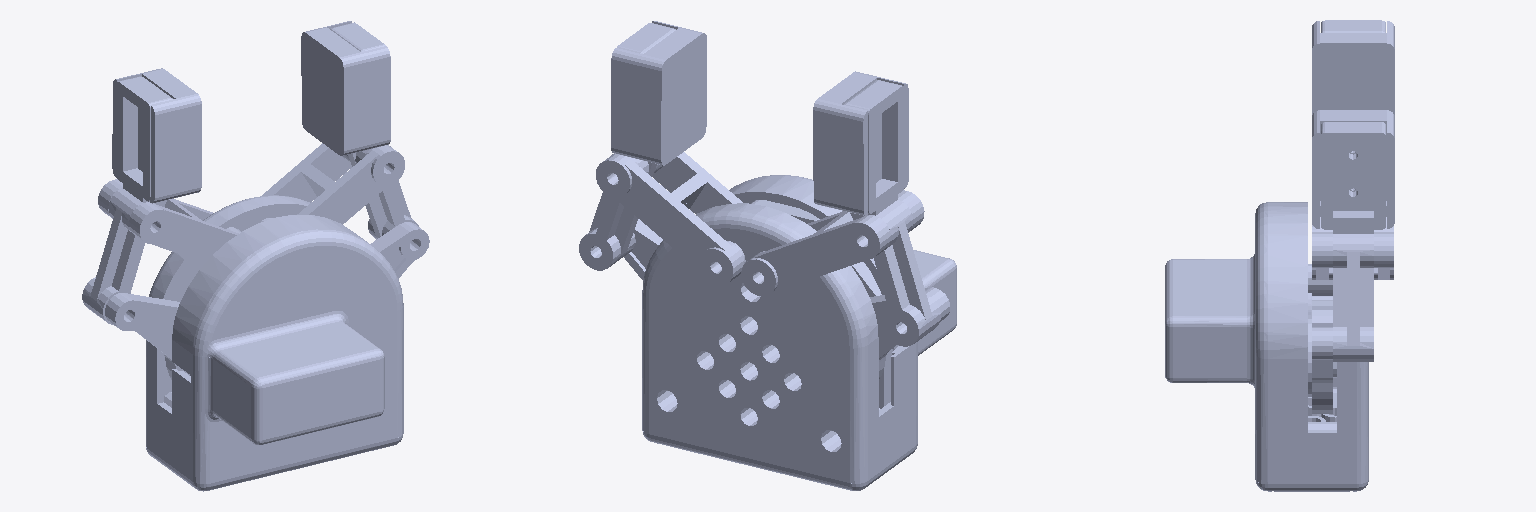
robot.urdf — mycobot_gripper_description:
<?xml version="1.0" encoding="utf-8"?>
<!-- This URDF was automatically created by SolidWorks to URDF Exporter! Originally created by [author] ([email redacted]) 
     Commit Version: 1.6.0-4-g7f85cfe  Build Version: 1.6.7995.38578
     For more information, please see http://wiki.ros.org/sw_urdf_exporter -->
<robot
  name="mycobot_gripper_description">
  <link
    name="base_link">
    <inertial>
      <origin
        xyz="0 -0.018162 0"
        rpy="1.5708 0 0" />
      <mass
        value="0.03237" />
      <inertia
        ixx="7.9803E-06"
        ixy="-3.7162E-08"
        ixz="4.3435E-07"
        iyy="1.0337E-05"
        iyz="3.3485E-07"
        izz="1.5321E-05" />
    </inertial>
    <visual>
      <origin
        xyz="0 0 0"
        rpy="0 0 0" />
      <geometry>
        <mesh
          filename="package://mycobot_gripper_description/meshes/base_link.STL" />
      </geometry>
      <material
        name="">
        <color
          rgba="0.79216 0.81961 0.93333 1" />
      </material>
    </visual>
    <collision>
      <origin
        xyz="0 0 0"
        rpy="0 0 0" />
      <geometry>
        <mesh
          filename="package://mycobot_gripper_description/meshes/base_link.STL" />
      </geometry>
    </collision>
  </link>
  <link
    name="left_inner_knuckle_link">
    <inertial>
      <origin
        xyz="-0.013688 0.0077832 0.01"
        rpy="0 0 0" />
      <mass
        value="0.0027253" />
      <inertia
        ixx="2.3883E-07"
        ixy="1.3724E-07"
        ixz="5.0465E-14"
        iyy="4.0216E-07"
        iyz="-1.3375E-14"
        izz="3.5516E-07" />
    </inertial>
    <visual>
      <origin
        xyz="0 0 0"
        rpy="0 0 0" />
      <geometry>
        <mesh
          filename="package://mycobot_gripper_description/meshes/left_inner_knuckle_link.STL" />
      </geometry>
      <material
        name="">
        <color
          rgba="0.79216 0.81961 0.93333 1" />
      </material>
    </visual>
    <collision>
      <origin
        xyz="0 0 0"
        rpy="0 0 0" />
      <geometry>
        <mesh
          filename="package://mycobot_gripper_description/meshes/left_inner_knuckle_link.STL" />
      </geometry>
    </collision>
  </link>
  <joint
    name="left_inner_base_knuckle_joint"
    type="continuous">
    <origin
      xyz="-0.006 0.0062 0.01931"
      rpy="1.5708 0 0" />
    <parent
      link="base_link" />
    <child
      link="left_inner_knuckle_link" />
    <axis
      xyz="0 0 1" />
    <mimic
      joint="left_outer_base_knuckle_joint"
      multiplier="1"
      offset="0" />
  </joint>
  <link
    name="left_finger_link">
    <inertial>
      <origin
        xyz="-0.011258 -0.00023581 0.005"
        rpy="0 0 0" />
      <mass
        value="0.0069464" />
      <inertia
        ixx="3.0023E-07"
        ixy="1.5317E-07"
        ixz="2.0426E-16"
        iyy="1.5826E-06"
        iyz="-6.683E-17"
        izz="1.4568E-06" />
    </inertial>
    <visual>
      <origin
        xyz="0 0 0"
        rpy="0 0 0" />
      <geometry>
        <mesh
          filename="package://mycobot_gripper_description/meshes/left_finger_link.STL" />
      </geometry>
      <material
        name="">
        <color
          rgba="0.79216 0.81961 0.93333 1" />
      </material>
    </visual>
    <collision>
      <origin
        xyz="0 0 0"
        rpy="0 0 0" />
      <geometry>
        <mesh
          filename="package://mycobot_gripper_description/meshes/left_finger_link.STL" />
      </geometry>
    </collision>
  </link>
  <joint
    name="left_inner_knuckle_finger_joint"
    type="continuous">
    <origin
      xyz="-0.026961 0.01533 0.015"
      rpy="3.1416 0 -1.8908" />
    <parent
      link="left_inner_knuckle_link" />
    <child
      link="left_finger_link" />
    <axis
      xyz="0 0 -1" />
    <mimic
      joint="left_outer_base_knuckle_joint"
      multiplier="-1"
      offset="0" />
  </joint>
  <link
    name="left_outer_knuckle_link">
    <inertial>
      <origin
        xyz="0.0024724 0.0012069 -0.0061758"
        rpy="0 0 0" />
      <mass
        value="0.0031761" />
      <inertia
        ixx="5.5821E-07"
        ixy="-8.1055E-11"
        ixz="4.4412E-10"
        iyy="4.2052E-07"
        iyz="7.9939E-08"
        izz="1.5004E-07" />
    </inertial>
    <visual>
      <origin
        xyz="0 0 0"
        rpy="0 0 0" />
      <geometry>
        <mesh
          filename="package://mycobot_gripper_description/meshes/left_outer_knuckle_link.STL" />
      </geometry>
      <material
        name="">
        <color
          rgba="0.79216 0.81961 0.93333 1" />
      </material>
    </visual>
    <collision>
      <origin
        xyz="0 0 0"
        rpy="0 0 0" />
      <geometry>
        <mesh
          filename="package://mycobot_gripper_description/meshes/left_outer_knuckle_link.STL" />
      </geometry>
    </collision>
  </link>
  <joint
    name="left_outer_base_knuckle_joint"
    type="revolute">
    <origin
      xyz="-0.01325 -0.0138 -0.00252"
      rpy="1.839 0 1.5708" />
    <parent
      link="base_link" />
    <child
      link="left_outer_knuckle_link" />
    <axis
      xyz="-1 0 0" />
    <limit
      lower="-0.75"
      upper="0.2"
      effort="100"
      velocity="2" />
  </joint>
  <link
    name="right_inner_knuckle_link">
    <inertial>
      <origin
        xyz="0.013579 0.007972 0.0099999"
        rpy="0 0 0" />
      <mass
        value="0.0027253" />
      <inertia
        ixx="2.4267E-07"
        ixy="-1.3945E-07"
        ixz="5.0275E-14"
        iyy="3.9832E-07"
        iyz="1.4073E-14"
        izz="3.5516E-07" />
    </inertial>
    <visual>
      <origin
        xyz="0 0 0"
        rpy="0 0 0" />
      <geometry>
        <mesh
          filename="package://mycobot_gripper_description/meshes/right_inner_knuckle_link.STL" />
      </geometry>
      <material
        name="">
        <color
          rgba="0.79216 0.81961 0.93333 1" />
      </material>
    </visual>
    <collision>
      <origin
        xyz="0 0 0"
        rpy="0 0 0" />
      <geometry>
        <mesh
          filename="package://mycobot_gripper_description/meshes/right_inner_knuckle_link.STL" />
      </geometry>
    </collision>
  </link>
  <joint
    name="right_inner_base_knuckle_joint"
    type="continuous">
    <origin
      xyz="0.005 0.0062 0.01931"
      rpy="1.5708 0 0" />
    <parent
      link="base_link" />
    <child
      link="right_inner_knuckle_link" />
    <axis
      xyz="0 0 1" />
    <mimic
      joint="left_outer_base_knuckle_joint"
      multiplier="-1"
      offset="0" />
  </joint>
  <link
    name="right_finger_link">
    <inertial>
      <origin
        xyz="-0.011258 -0.00023581 0.005"
        rpy="0 0 0" />
      <mass
        value="0.0069464" />
      <inertia
        ixx="3.0023E-07"
        ixy="1.5317E-07"
        ixz="2.0426E-16"
        iyy="1.5826E-06"
        iyz="-6.683E-17"
        izz="1.4568E-06" />
    </inertial>
    <visual>
      <origin
        xyz="0 0 0"
        rpy="0 0 0" />
      <geometry>
        <mesh
          filename="package://mycobot_gripper_description/meshes/right_finger_link.STL" />
      </geometry>
      <material
        name="">
        <color
          rgba="0.79216 0.81961 0.93333 1" />
      </material>
    </visual>
    <collision>
      <origin
        xyz="0 0 0"
        rpy="0 0 0" />
      <geometry>
        <mesh
          filename="package://mycobot_gripper_description/meshes/right_finger_link.STL" />
      </geometry>
    </collision>
  </link>
  <joint
    name="right_inner_knuckle_finger_joint"
    type="continuous">
    <origin
      xyz="0.026746 0.015702 0.005"
      rpy="0 0 -1.2508" />
    <parent
      link="right_inner_knuckle_link" />
    <child
      link="right_finger_link" />
    <axis
      xyz="0 0 1" />
    <mimic
      joint="left_outer_base_knuckle_joint"
      multiplier="1"
      offset="0" />
  </joint>
  <link
    name="right_outer_knuckle_link">
    <inertial>
      <origin
        xyz="0.0026671 -0.003562 0.0056204"
        rpy="0 0 0" />
      <mass
        value="0.0030687" />
      <inertia
        ixx="5.4543E-07"
        ixy="-1.7697E-09"
        ixz="2.7991E-09"
        iyy="3.3169E-07"
        iyz="1.4798E-07"
        izz="2.2484E-07" />
    </inertial>
    <visual>
      <origin
        xyz="0 0 0"
        rpy="0 0 0" />
      <geometry>
        <mesh
          filename="package://mycobot_gripper_description/meshes/right_outer_knuckle_link.STL" />
      </geometry>
      <material
        name="">
        <color
          rgba="0.79216 0.81961 0.93333 1" />
      </material>
    </visual>
    <collision>
      <origin
        xyz="0 0 0"
        rpy="0 0 0" />
      <geometry>
        <mesh
          filename="package://mycobot_gripper_description/meshes/right_outer_knuckle_link.STL" />
      </geometry>
    </collision>
  </link>
  <joint
    name="right_outer_base_knuckle_link"
    type="continuous">
    <origin
      xyz="0.01225 -0.0088 -0.00252"
      rpy="-1.6401 0 -1.5708" />
    <parent
      link="base_link" />
    <child
      link="right_outer_knuckle_link" />
    <axis
      xyz="1 0 0" />
    <mimic
      joint="left_outer_base_knuckle_joint"
      multiplier="-1"
      offset="0" />
  </joint>
</robot>

--- Render facts (derived) ---
Views: 3 orthographic renders of the robot side by side, from view 1: azimuth 30°, elevation 25°; view 2: azimuth 150°, elevation 25°; view 3: azimuth 270°, elevation 25°.
Robot: mycobot_gripper_description — 7 links, 6 joints (1 revolute, 5 continuous); root link base_link; default pose: every joint at zero.
Visible links, largest first — view 1: base_link, left_finger_link, right_finger_link, right_inner_knuckle_link, left_inner_knuckle_link, left_outer_knuckle_link, right_outer_knuckle_link; view 2: base_link, left_finger_link, right_finger_link, right_inner_knuckle_link, left_inner_knuckle_link, left_outer_knuckle_link, right_outer_knuckle_link; view 3: base_link, right_finger_link, left_finger_link, right_outer_knuckle_link, right_inner_knuckle_link.
Link boxes in pixels (x1,y1,x2,y2): base_link: [146, 195, 403, 491]; left_finger_link: [82, 68, 201, 325]; right_finger_link: [301, 21, 418, 239]; right_inner_knuckle_link: [262, 143, 404, 224]; left_inner_knuckle_link: [98, 179, 238, 262]; left_outer_knuckle_link: [105, 293, 189, 379]; right_outer_knuckle_link: [371, 222, 429, 278]; base_link: [642, 175, 956, 490]; left_finger_link: [813, 71, 940, 346]; right_finger_link: [579, 21, 706, 270]; right_inner_knuckle_link: [596, 152, 743, 285]; left_inner_knuckle_link: [741, 190, 924, 296]; left_outer_knuckle_link: [870, 287, 949, 378]; right_outer_knuckle_link: [624, 219, 662, 279]; base_link: [1165, 202, 1368, 491]; right_finger_link: [1312, 110, 1394, 361]; left_finger_link: [1312, 20, 1394, 114]; right_outer_knuckle_link: [1312, 297, 1332, 413]; right_inner_knuckle_link: [1312, 232, 1393, 279].
Bounding box of the posed robot: 0.0881 × 0.056 × 0.099 m (x, y, z).
Meshes: 7 distinct files referenced, 7 mesh visuals loaded (7 binary STL).